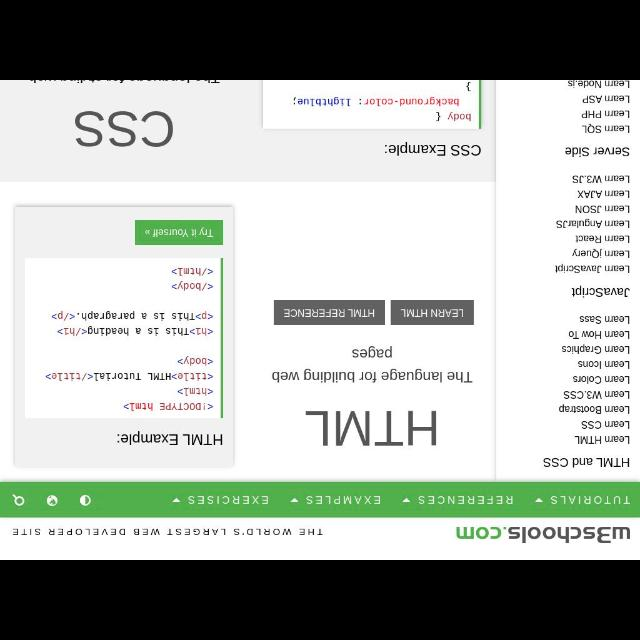icon: (10, 494, 26, 506), (46, 494, 59, 506), (79, 494, 91, 506), (290, 497, 300, 503), (534, 498, 546, 502), (402, 498, 412, 502), (171, 498, 181, 502)
image: (454, 524, 630, 544)
panel: (14, 207, 236, 468), (496, 81, 640, 481)
spinner: (288, 494, 382, 506), (402, 494, 514, 504), (172, 494, 270, 504), (534, 496, 632, 504)
text: (271, 346, 474, 384), (303, 410, 439, 448), (74, 110, 174, 148), (10, 527, 324, 537), (44, 370, 215, 384), (292, 94, 460, 108), (50, 310, 214, 322), (56, 327, 214, 338), (115, 430, 223, 446), (384, 140, 482, 156), (542, 456, 630, 468), (122, 401, 214, 412), (188, 494, 270, 506), (418, 495, 514, 505), (282, 308, 376, 318), (304, 494, 382, 506), (554, 263, 630, 275), (558, 404, 630, 416), (143, 226, 214, 238), (560, 344, 630, 356), (564, 146, 630, 158), (571, 286, 631, 298), (563, 390, 631, 400), (399, 308, 465, 318), (550, 496, 632, 504), (568, 330, 630, 340), (556, 220, 630, 228), (572, 248, 630, 258), (572, 174, 630, 184), (577, 360, 631, 370), (171, 280, 215, 292), (574, 234, 630, 243), (580, 420, 630, 430), (580, 315, 630, 325), (581, 124, 631, 134), (568, 81, 630, 89), (582, 110, 630, 120), (582, 94, 630, 104), (170, 266, 216, 276), (434, 111, 472, 123), (574, 436, 630, 444), (574, 376, 630, 384), (574, 205, 630, 213), (576, 190, 632, 198), (175, 387, 215, 398), (177, 356, 215, 366), (465, 80, 473, 92)
textbutton: (262, 82, 482, 128), (274, 300, 384, 324), (134, 220, 223, 244), (391, 301, 473, 325)
toolbar: (2, 481, 640, 517)
